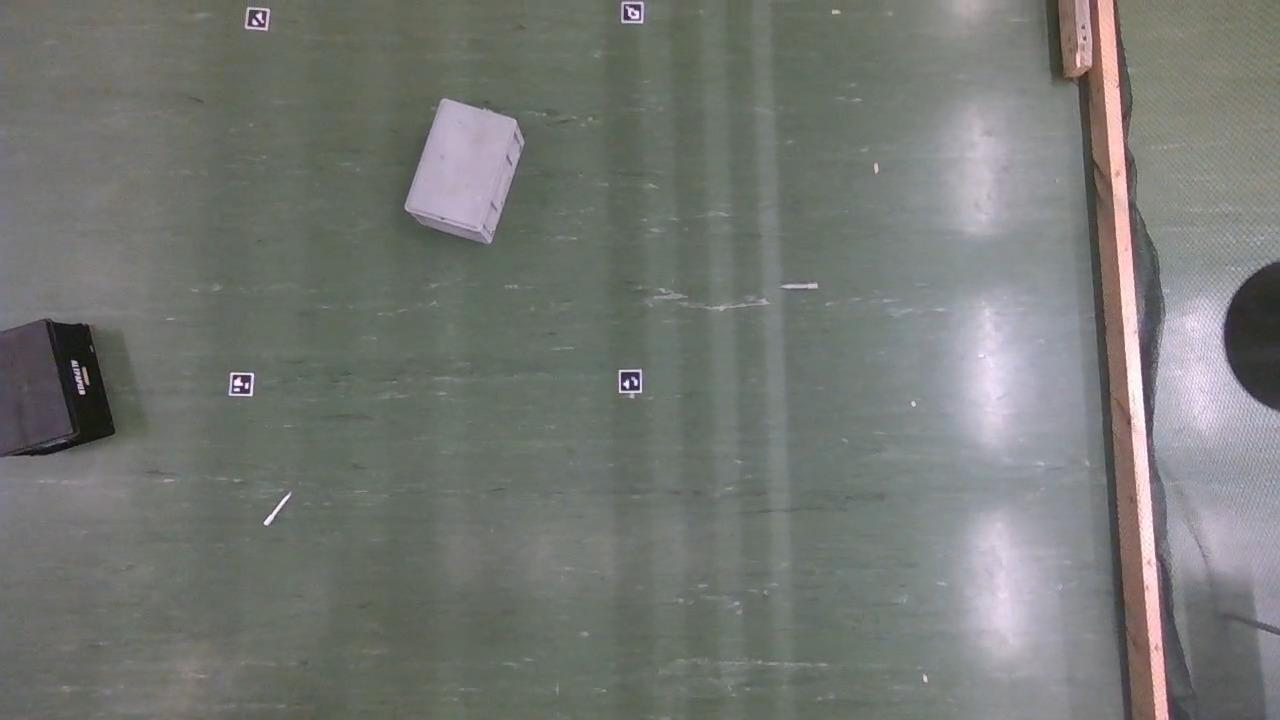probes: (262, 491, 291, 526), (780, 282, 818, 290)
rako: (399, 95, 527, 247), (0, 318, 116, 458)
